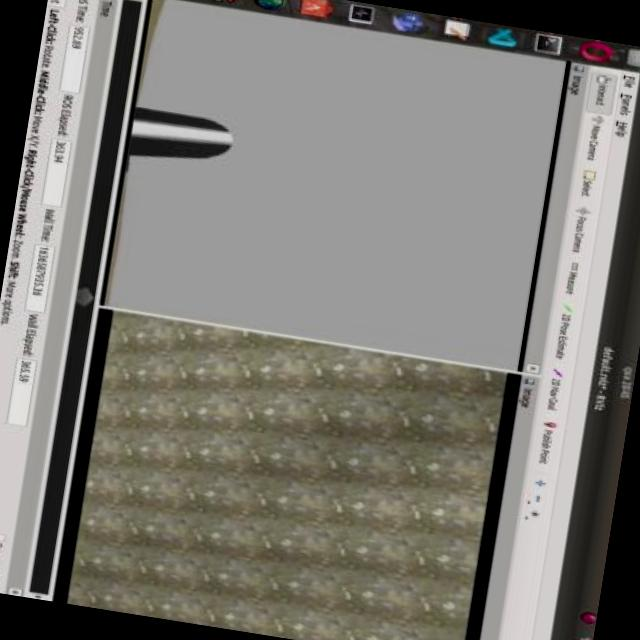gas: (125, 97, 234, 172)
